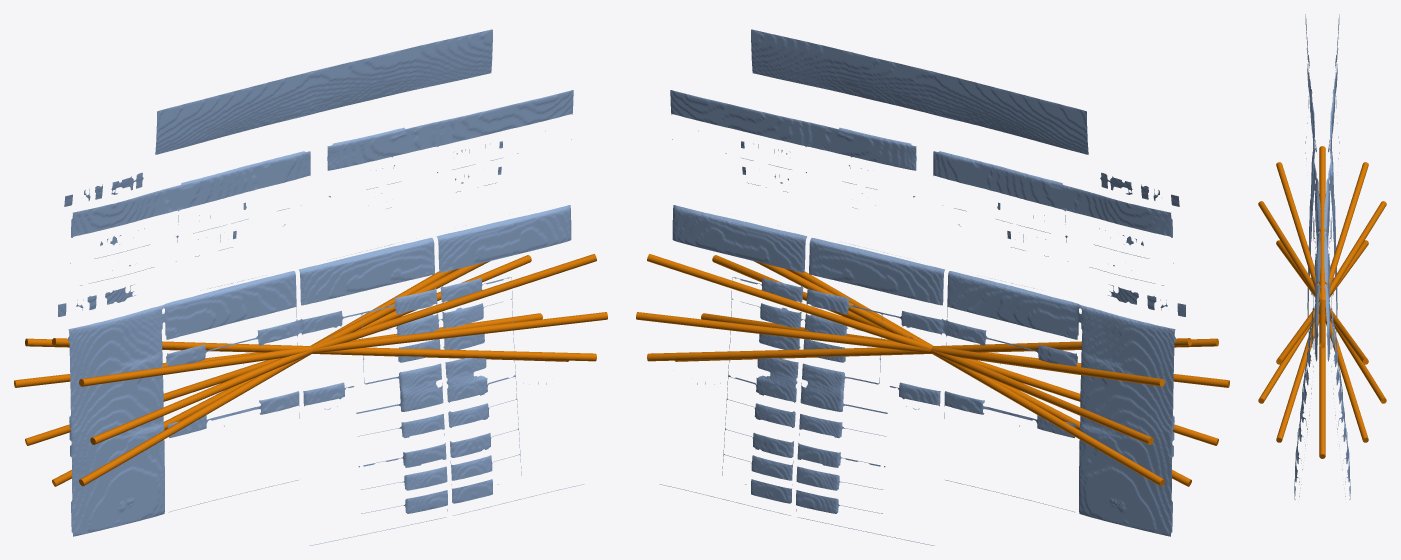
The model's file is A60025771_6150-37-520-1800_DigitalTwin.glb.
The picture shows the model from 3 angles, left to right: view 1: azimuth 30°, elevation 25°; view 2: azimuth 150°, elevation 25°; view 3: azimuth 270°, elevation 25°; orthographic projection. The views are drawn at different scales.
Parts seen in each view (by area): view 1: world; view 2: world; view 3: world.
Boxes of the visible parts, x1=… form: world: x1=14, y1=29, x2=607, y2=545; world: x1=636, y1=29, x2=1229, y2=545; world: x1=1258, y1=14, x2=1386, y2=499.
Bounding box in the file's own units: 306 × 267 × 83.94.
